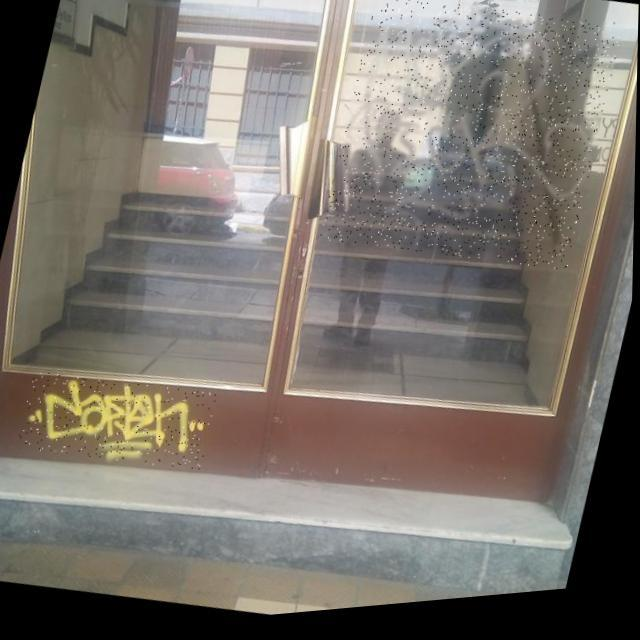-: (320, 0, 624, 298), (17, 358, 220, 487)
